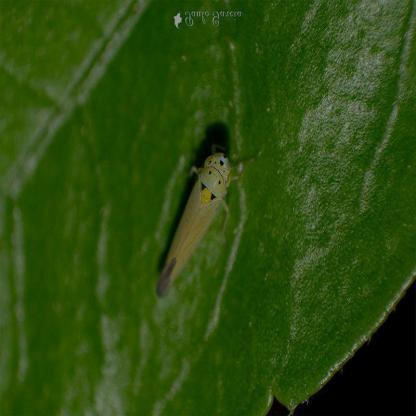green-leafhopper: (158, 141, 235, 296)
